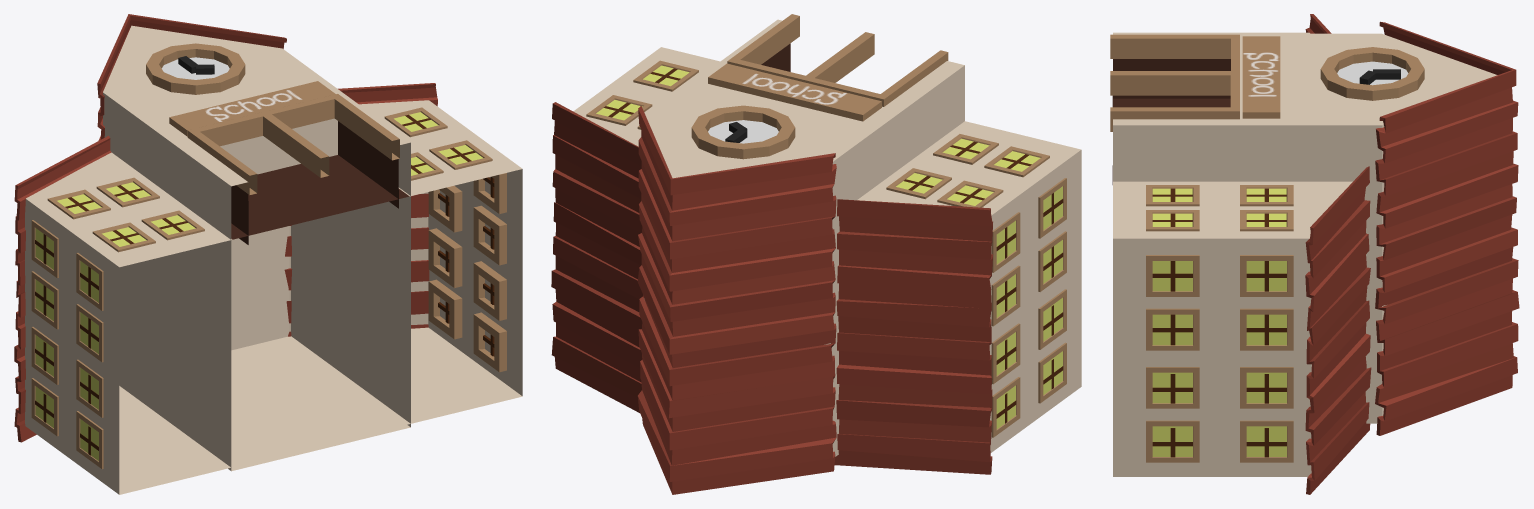
The model's file is School.fbx.
3 views of the same model, side by side, from view 1: azimuth 30°, elevation 25°; view 2: azimuth 150°, elevation 25°; view 3: azimuth 270°, elevation 25° (orthographic). The views are drawn at different scales.
Visible parts, largest first — view 1: School; view 2: School; view 3: School.
Part boxes in pixels (box(x1,y1,x2,y2)): School: box(14, 14, 522, 494); School: box(551, 14, 1081, 494); School: box(1110, 14, 1519, 494).
Size of the model in its own units: 115 by 79.45 by 92.07.
